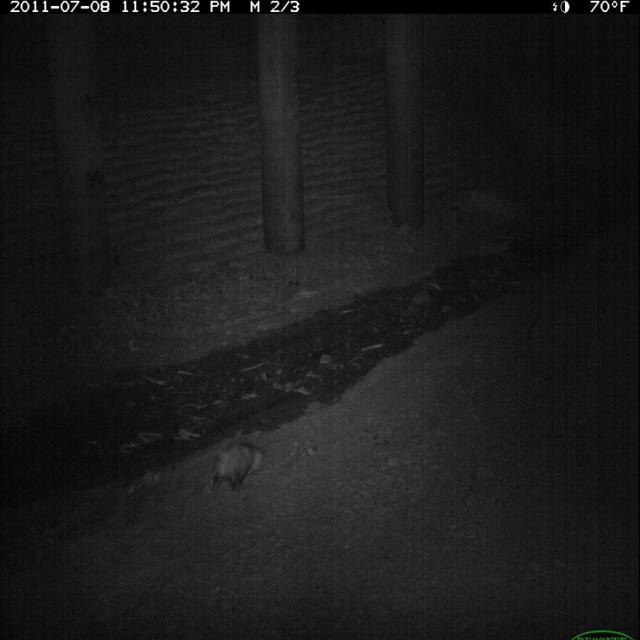opossum: (186, 437, 270, 505)
